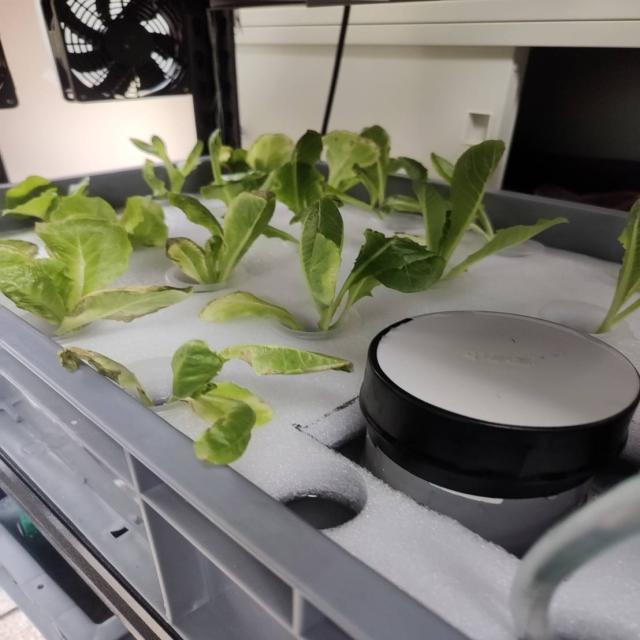Lettuce-Not-Ready-to-Harvest: (167, 340, 353, 464), (0, 218, 185, 333), (300, 196, 445, 331), (398, 140, 505, 263), (167, 190, 295, 284), (3, 176, 167, 246), (272, 130, 378, 222), (443, 218, 568, 280), (340, 125, 422, 219), (442, 218, 565, 278), (200, 131, 293, 204), (593, 200, 640, 334), (58, 348, 153, 406), (132, 136, 203, 198), (200, 291, 302, 329)
